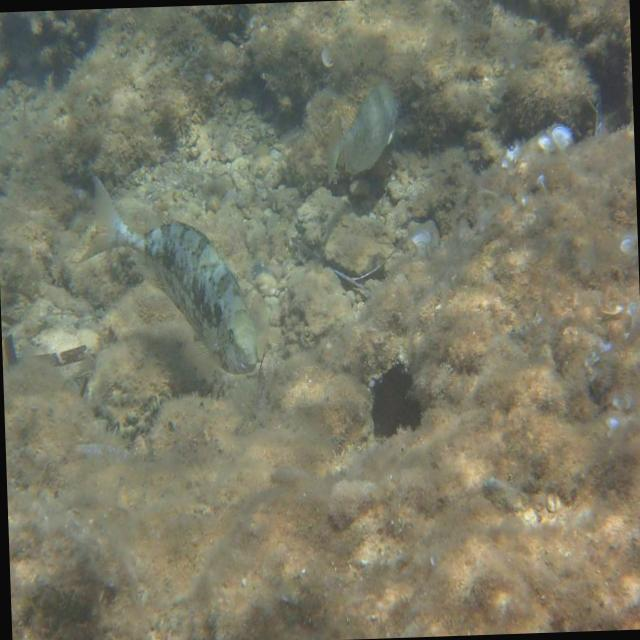Sokar Baligi: (74, 160, 266, 402), (308, 63, 416, 198)
